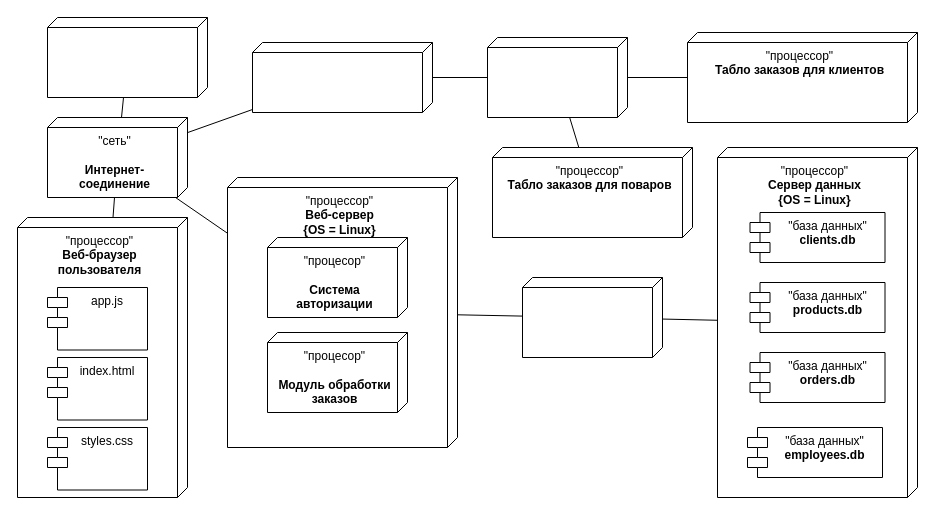
This 935x515 diagram has some shape labels left out. Each missing label, with the centre of its shape:
"процессор" Компьютер в пиццерии: point 342,77
"процессор" Приложение доставщика: point 127,57
"сеть" Защищённое соединение: point 592,317
"сеть" Локальная сеть: point 557,77
